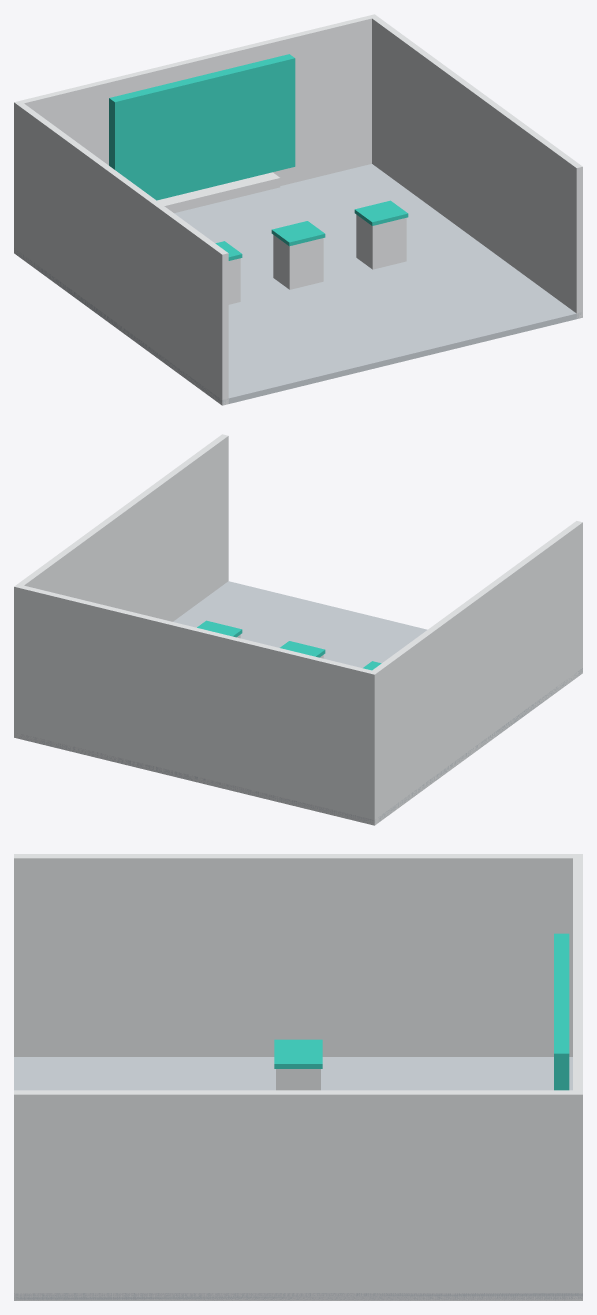
3 renders of one model, top to bottom at view 1: azimuth 30°, elevation 25°; view 2: azimuth 150°, elevation 25°; view 3: azimuth 270°, elevation 25°, orthographic. The views are drawn at different scales.
Parts seen in each view (by area): view 1: Exhibition Booth Concept; view 2: Exhibition Booth Concept; view 3: Exhibition Booth Concept.
Part boxes in pixels (x1=…): Exhibition Booth Concept: x1=14, y1=14, x2=582, y2=405; Exhibition Booth Concept: x1=14, y1=434, x2=582, y2=825; Exhibition Booth Concept: x1=14, y1=854, x2=582, y2=1300.
Size of the model in its own units: 8 by 3.2 by 8.
